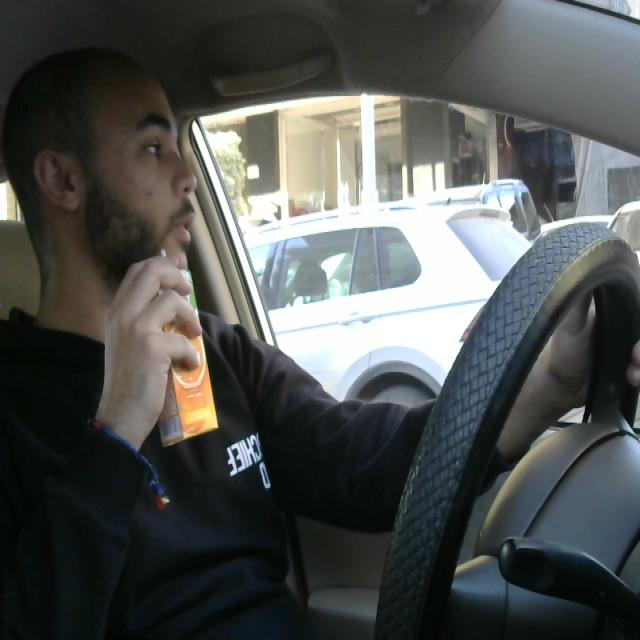drinking: (142, 245, 218, 448)
